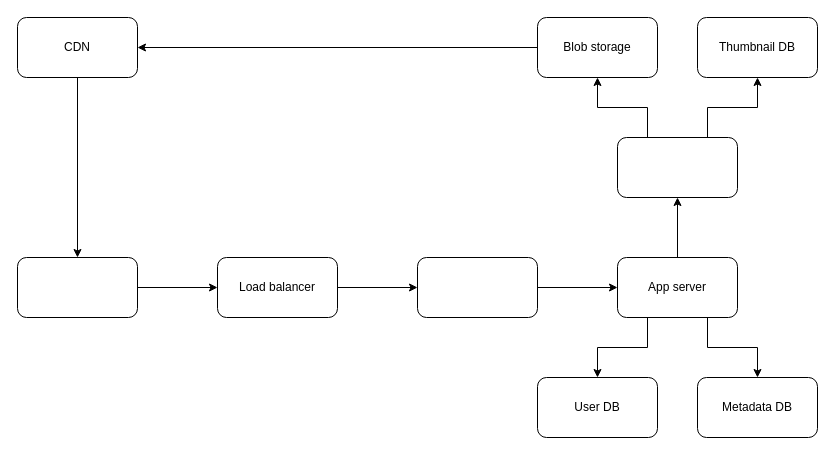
This 835x455 diagram has some shape labels left out. Here are the shapes that lost their labels. From the top down, the centre of each, then its label:
At [677,167]: "Encoder".
At [77,287]: "User".
At [477,287]: "Web server".
